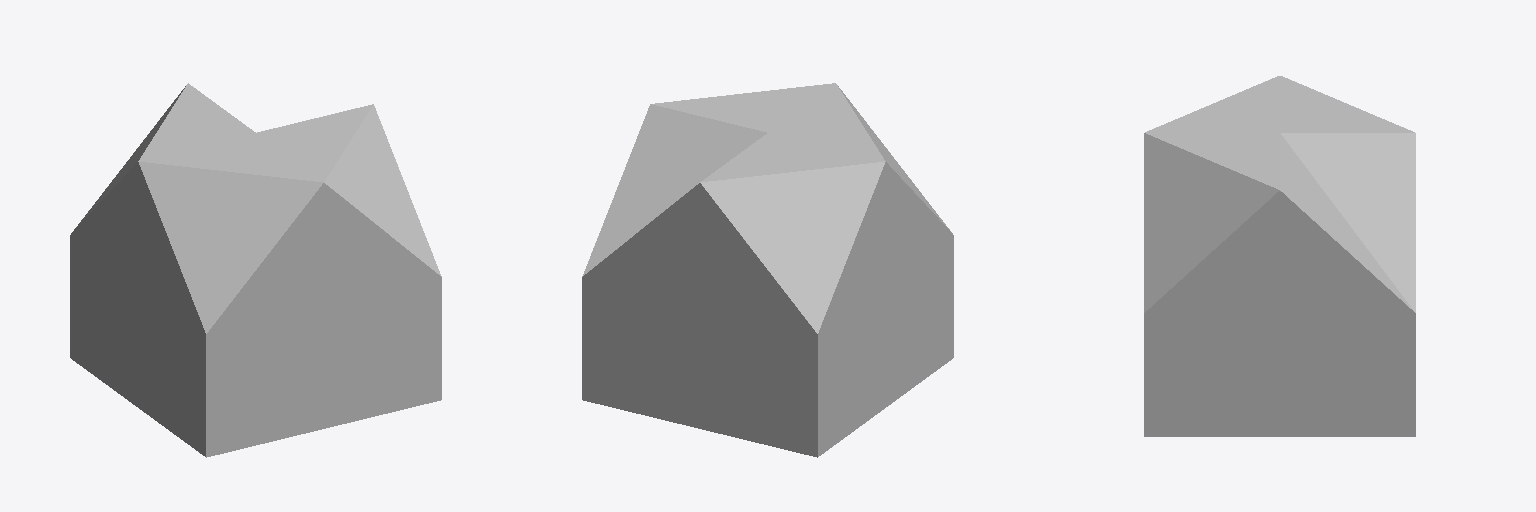
Rendered from my_first_block.obj.
3 views of the same model, side by side, from view 1: azimuth 30°, elevation 25°; view 2: azimuth 150°, elevation 25°; view 3: azimuth 270°, elevation 25° (orthographic).
Visible parts, largest first — view 1: Cube; view 2: Cube; view 3: Cube.
Boxes of the visible parts, x1=… form: Cube: x1=70, y1=83, x2=441, y2=457; Cube: x1=582, y1=83, x2=953, y2=457; Cube: x1=1144, y1=76, x2=1415, y2=436.
Bounding box in the file's own units: 2 × 2 × 2.